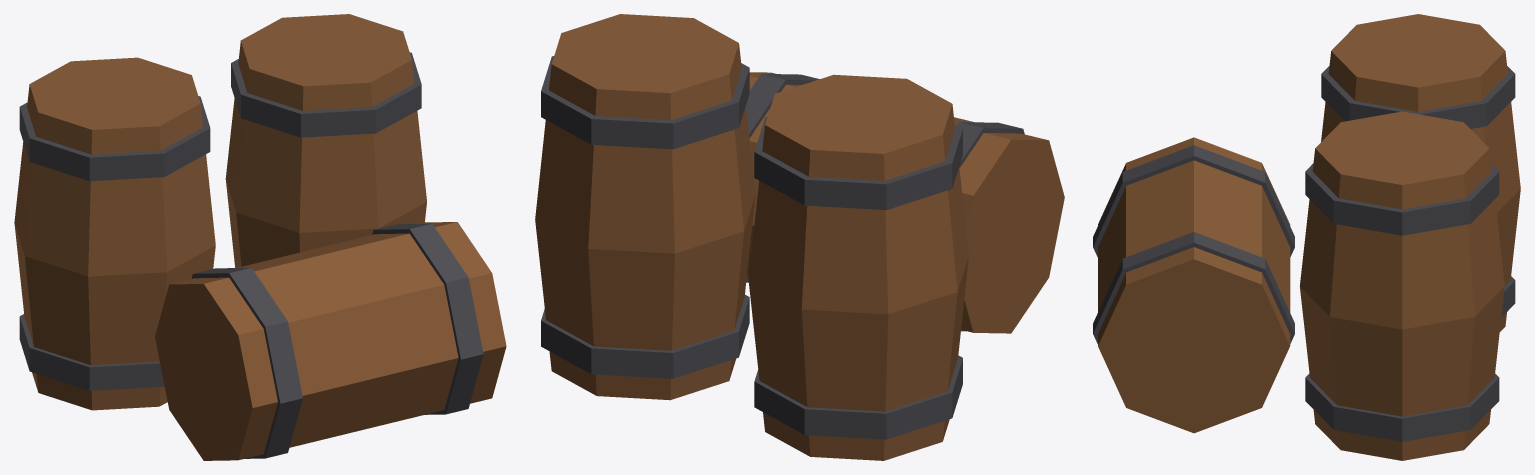
Rendered from Dorf_Faesser.fbx.
3 renders of one model, left to right at view 1: azimuth 30°, elevation 25°; view 2: azimuth 150°, elevation 25°; view 3: azimuth 270°, elevation 25°, orthographic. The views are drawn at different scales.
Parts seen in each view (by area): view 1: Dorf_Faesser; view 2: Dorf_Faesser; view 3: Dorf_Faesser.
Boxes of the visible parts, <box> form: Dorf_Faesser: <box>14,14,506,460</box>; Dorf_Faesser: <box>535,14,1064,460</box>; Dorf_Faesser: <box>1093,14,1520,460</box>.
Bounding box in the file's own units: 1.36 × 0.955 × 1.33.
